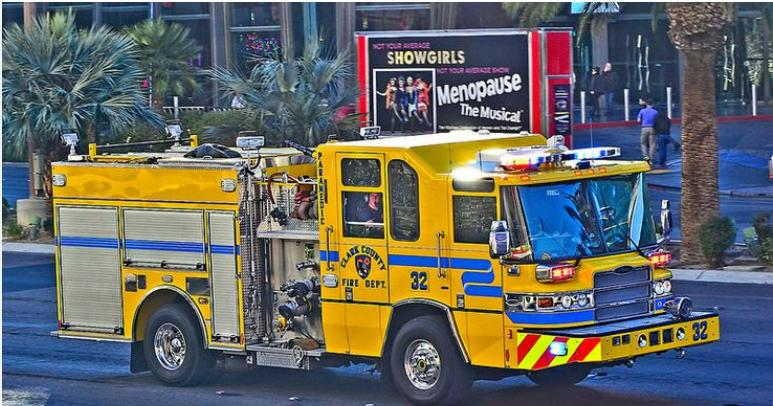firetruck_on: (54, 124, 717, 406)
